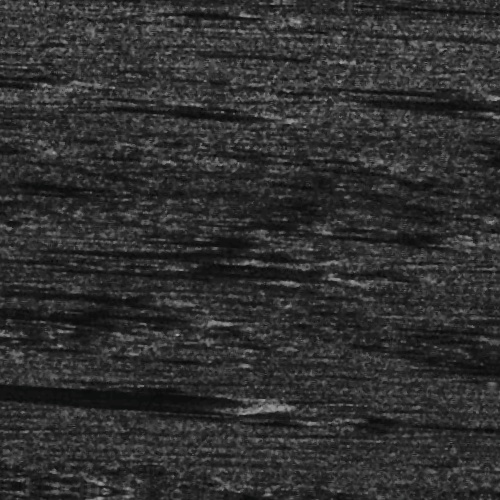object: (148, 249, 335, 264), (238, 395, 311, 410), (244, 275, 349, 284), (222, 108, 305, 119), (406, 222, 479, 233), (260, 237, 333, 248), (145, 297, 198, 310), (178, 316, 251, 325), (427, 77, 490, 86), (26, 336, 89, 341), (248, 12, 311, 17), (0, 355, 29, 362), (0, 342, 19, 351)
shadow: (0, 395, 275, 410), (85, 249, 241, 264), (13, 297, 171, 310), (79, 108, 263, 119), (0, 316, 214, 325), (270, 222, 442, 233), (109, 275, 296, 284), (291, 77, 459, 86), (185, 237, 296, 248), (364, 408, 500, 415), (415, 353, 500, 360), (171, 12, 279, 17), (403, 91, 500, 96), (0, 336, 58, 341), (441, 408, 500, 411), (209, 52, 317, 53)
